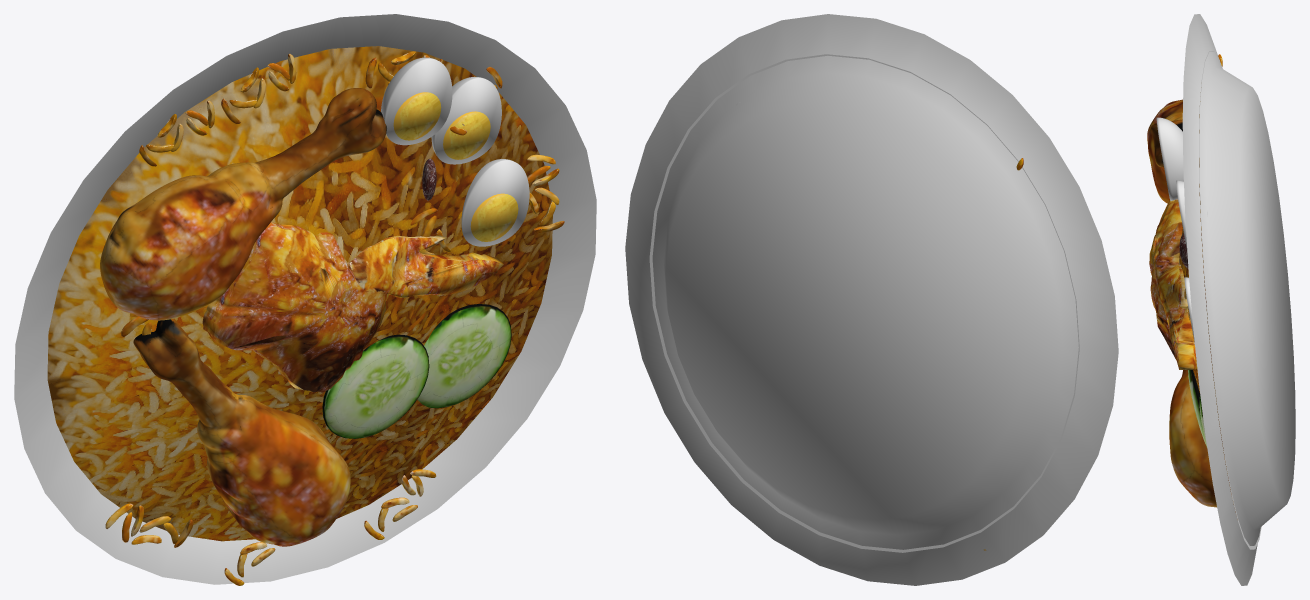
Rendered from regularmandi.glb.
The picture shows the model from 3 angles, left to right: view 1: azimuth 30°, elevation 25°; view 2: azimuth 150°, elevation 25°; view 3: azimuth 270°, elevation 25°; orthographic projection. The views are drawn at different scales.
Visible parts, largest first — view 1: Cone, Circle.002, Vert, 15513_Fried_Chicken_Drumstick_v1.001, 15513_Fried_Chicken_Drumstick_v1.002, Sphere.005, Sphere.006, Sphere.001, Sphere, Sphere.007, Plane.006, Plane.011 (+3 smaller); view 2: Circle.002, Cone; view 3: Circle.002, Vert, 15513_Fried_Chicken_Drumstick_v1.002, Sphere.001, 15513_Fried_Chicken_Drumstick_v1.001, Cone, Sphere.005, Sphere.007, Sphere, Sphere.002.
Boxes of the visible parts, x1,y1,x2,y2 form: Cone: (47, 46, 552, 541); Circle.002: (14, 14, 596, 584); Vert: (202, 222, 503, 392); 15513_Fried_Chicken_Drumstick_v1.001: (100, 88, 386, 320); 15513_Fried_Chicken_Drumstick_v1.002: (133, 318, 350, 546); Sphere.005: (322, 334, 429, 438); Sphere.006: (417, 304, 511, 408); Sphere.001: (381, 57, 452, 145); Sphere: (461, 159, 529, 246); Sphere.007: (431, 76, 501, 164); Plane.006: (105, 503, 193, 547); Plane.011: (221, 53, 296, 123); Circle.002: (625, 14, 1118, 585); Cone: (649, 54, 1079, 552); Circle.002: (1182, 14, 1295, 585); Vert: (1149, 198, 1197, 369); 15513_Fried_Chicken_Drumstick_v1.002: (1169, 370, 1216, 507); Sphere.001: (1156, 117, 1183, 200); 15513_Fried_Chicken_Drumstick_v1.001: (1147, 99, 1182, 203); Cone: (1178, 51, 1261, 549); Sphere.005: (1188, 370, 1206, 445); Sphere.007: (1176, 180, 1207, 251); Sphere: (1184, 277, 1194, 341); Sphere.002: (1179, 233, 1188, 268).
Bounding box in the file's own units: 8.23 × 8.18 × 2.13.
26 materials, 22 textured.
